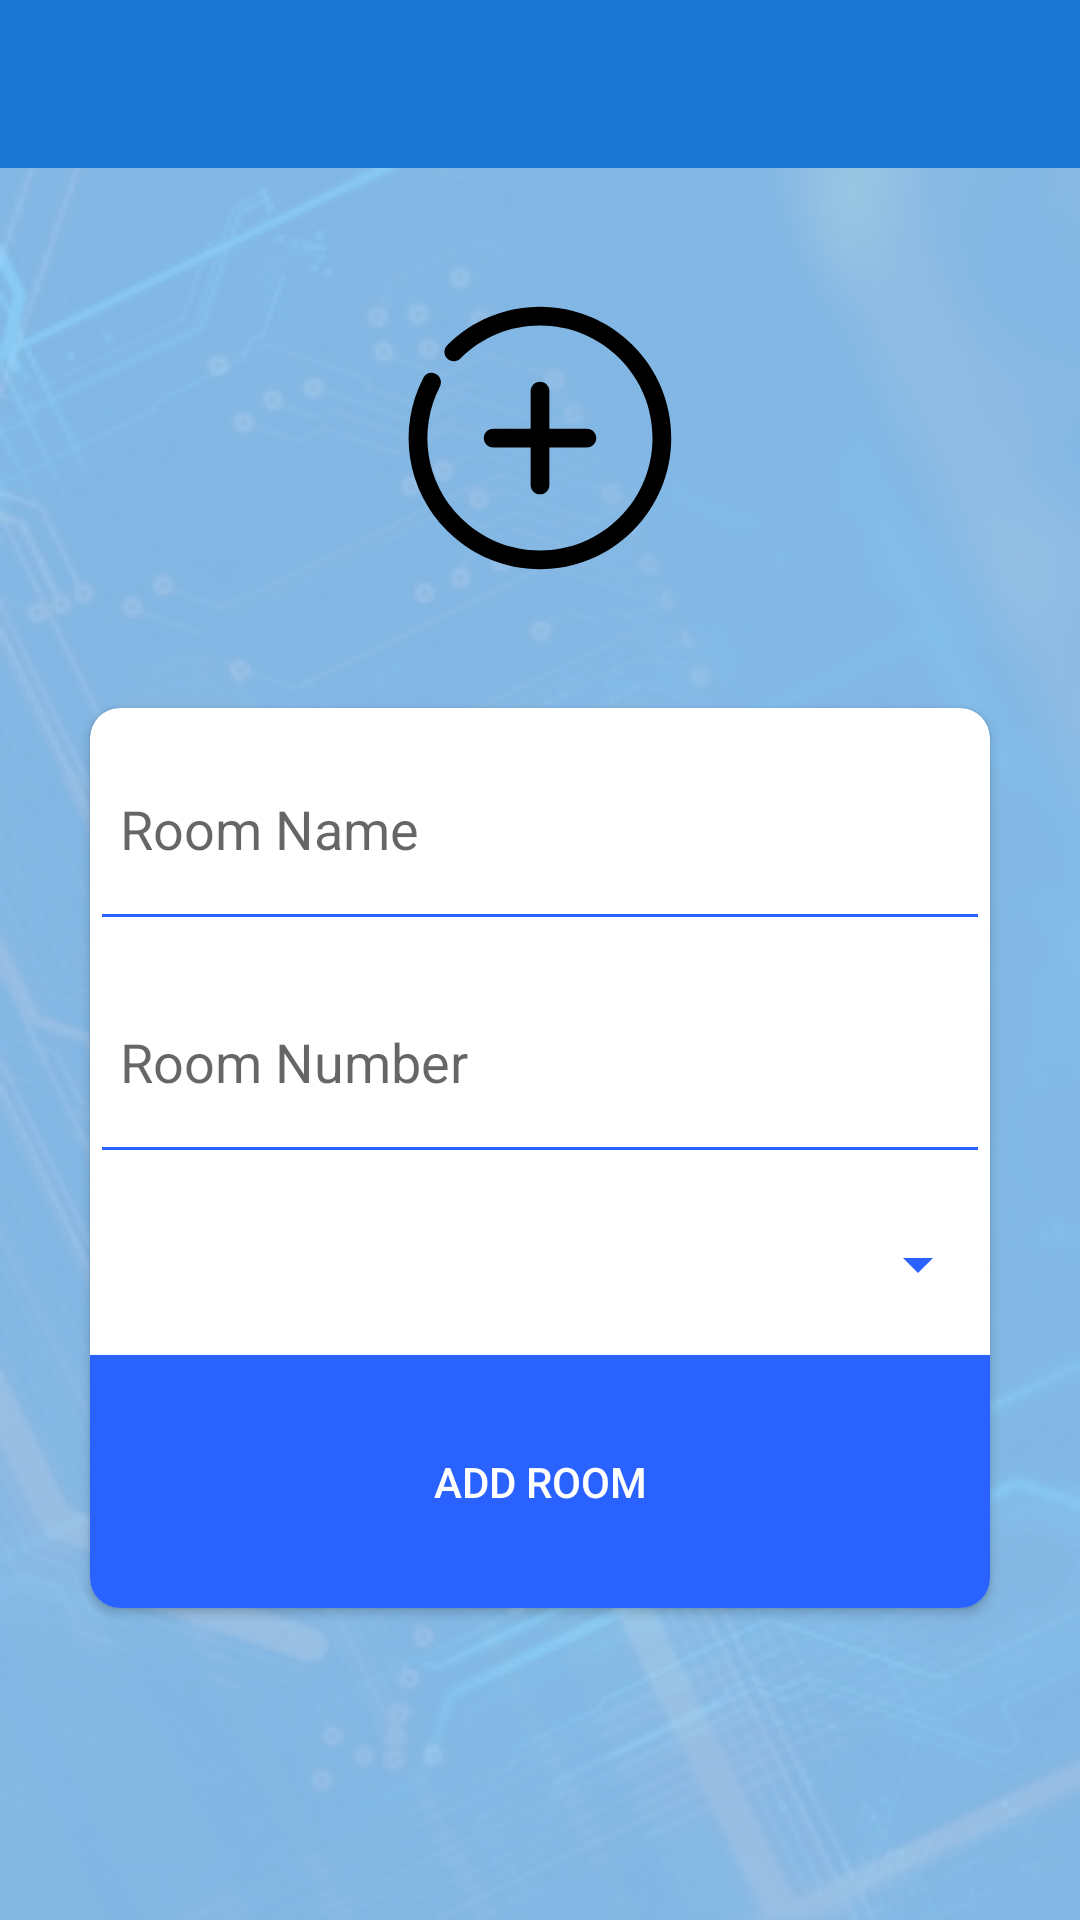

Icons on this 1080px x 1920px Android screen, each with the point to tap as point (x, y):
add: point (540, 438)
